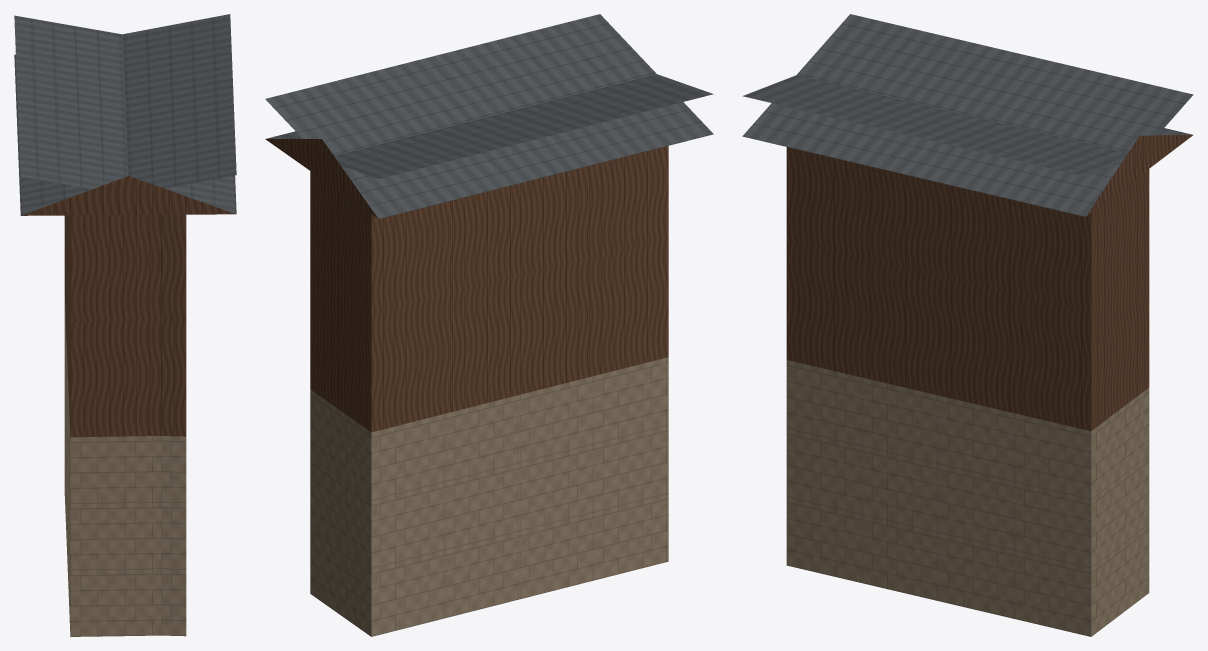
Rendered from bld_c10_29_404.gltf.
3 views of the same model, side by side, from view 1: azimuth 30°, elevation 25°; view 2: azimuth 150°, elevation 25°; view 3: azimuth 270°, elevation 25° (orthographic). The views are drawn at different scales.
Visible parts, largest first — view 1: bld_c10_29_404; view 2: bld_c10_29_404; view 3: bld_c10_29_404.
Boxes of the visible parts, x1,y1,x2,y2 form: bld_c10_29_404: (14,14,236,636); bld_c10_29_404: (265,14,713,636); bld_c10_29_404: (742,14,1193,636).
Size of the model in its own units: 8.66 by 12 by 10.15.
4 materials, 4 textured.
